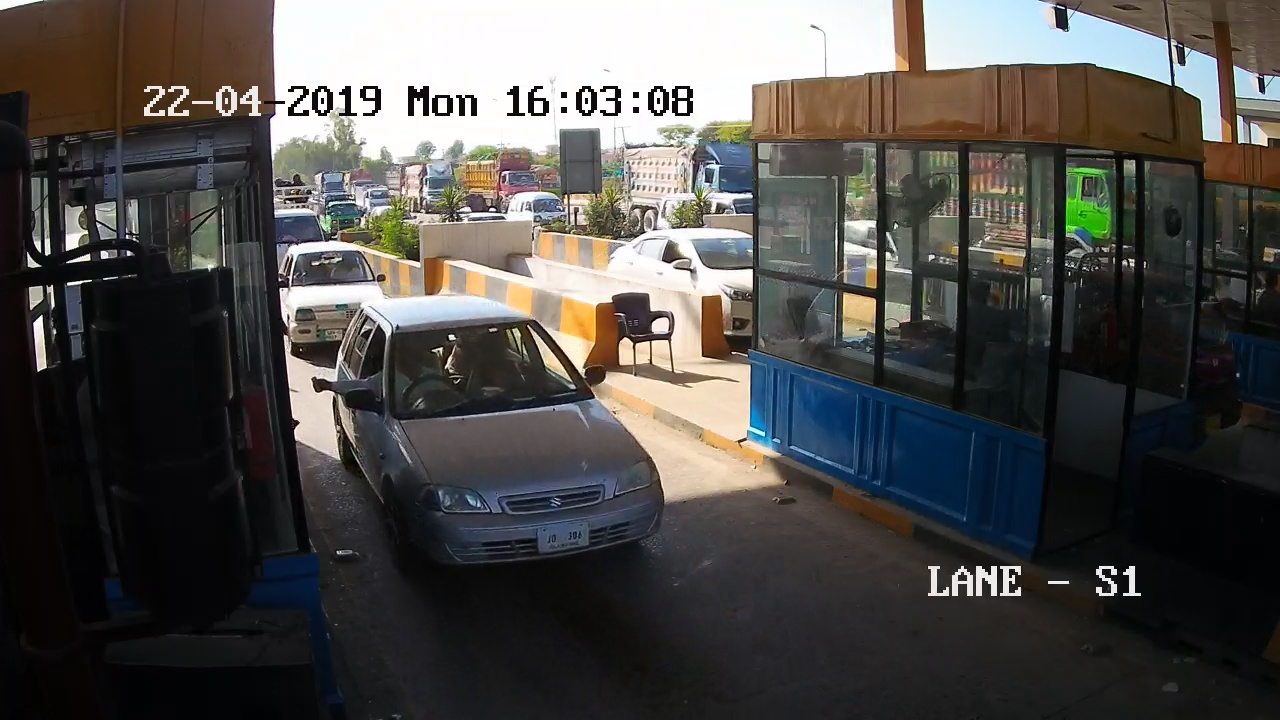Number Plate (Car): (535, 524, 592, 552)
